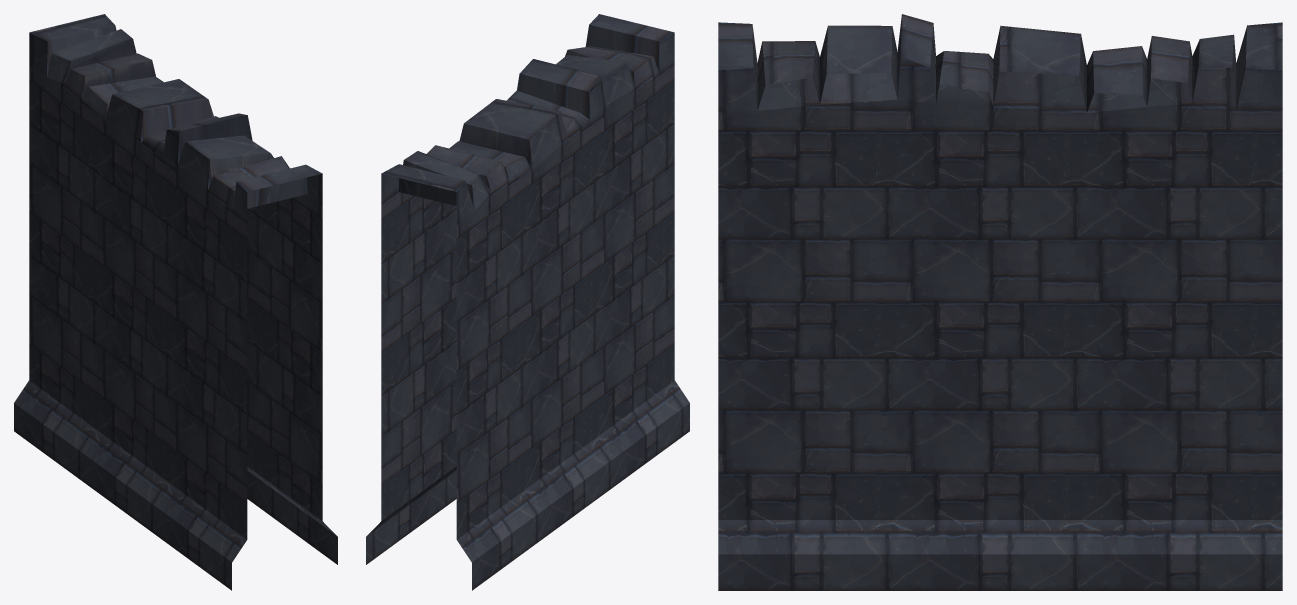
Rendered from Ruins_Wall_001.fbx.
3 renders of one model, left to right at view 1: azimuth 30°, elevation 25°; view 2: azimuth 150°, elevation 25°; view 3: azimuth 270°, elevation 25°, orthographic. The views are drawn at different scales.
Visible parts, largest first — view 1: Ruins_Wall_001; view 2: Ruins_Wall_001; view 3: Ruins_Wall_001.
Boxes of the visible parts, x1,y1,x2,y2 form: Ruins_Wall_001: [14, 14, 337, 590]; Ruins_Wall_001: [366, 14, 689, 590]; Ruins_Wall_001: [718, 14, 1282, 590].
Bounding box in the file's own units: 1.4 × 5.1 × 5.
Materials: 1 (1 with a texture image).
